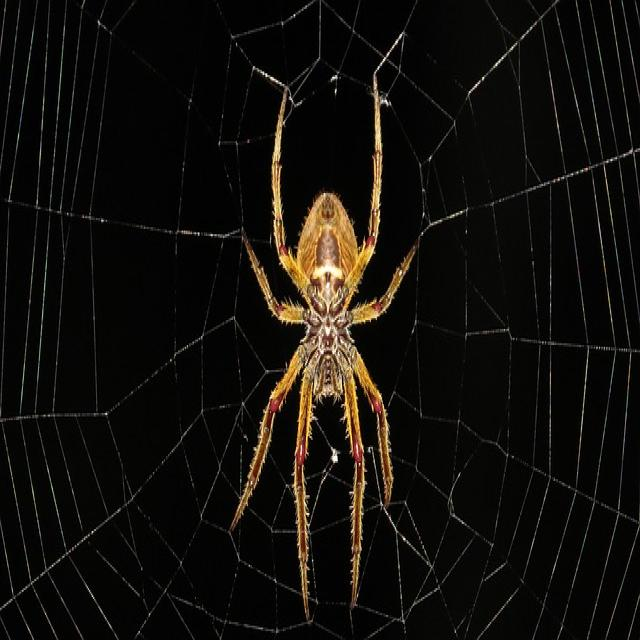spyder: (230, 73, 417, 622)
